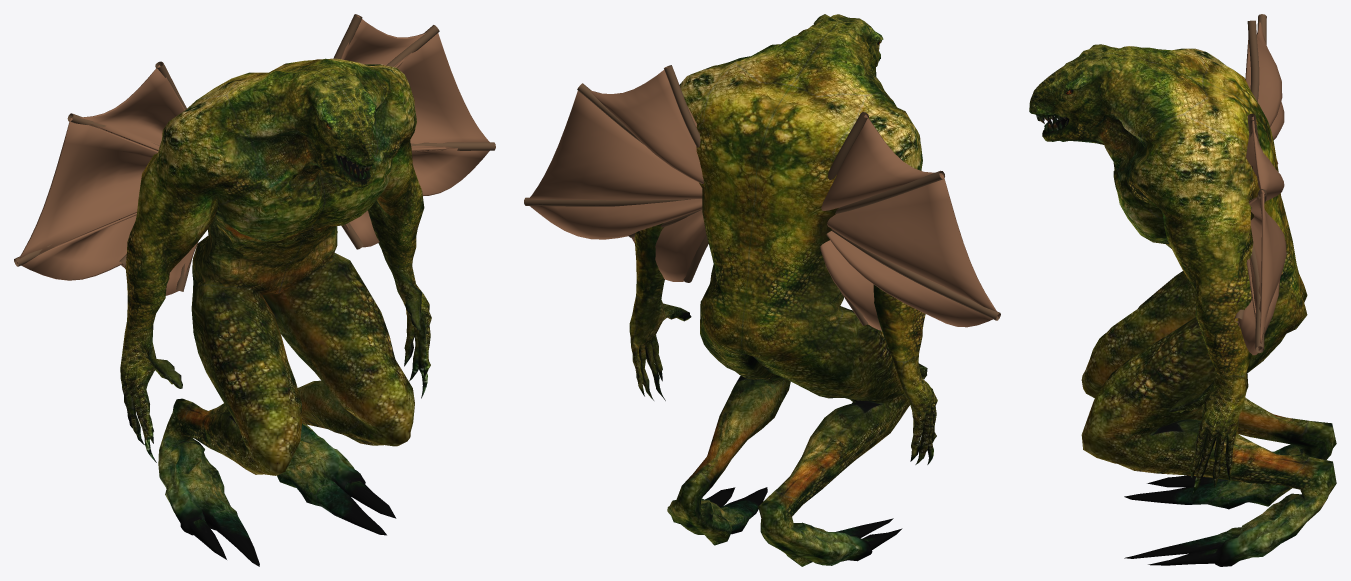
File: actor-goldyx.glb
The picture shows the model from 3 angles, left to right: view 1: azimuth 30°, elevation 25°; view 2: azimuth 150°, elevation 25°; view 3: azimuth 270°, elevation 25°; orthographic projection.
Parts seen in each view (by area): view 1: lizardman · posed; view 2: lizardman · posed; view 3: lizardman · posed.
Part boxes in pixels (x1=…): lizardman · posed: x1=14, y1=14, x2=495, y2=566; lizardman · posed: x1=524, y1=14, x2=1000, y2=566; lizardman · posed: x1=1029, y1=14, x2=1336, y2=566.
Size of the model in its own units: 2.07 by 2 by 1.16.
3 materials, 1 textured.
